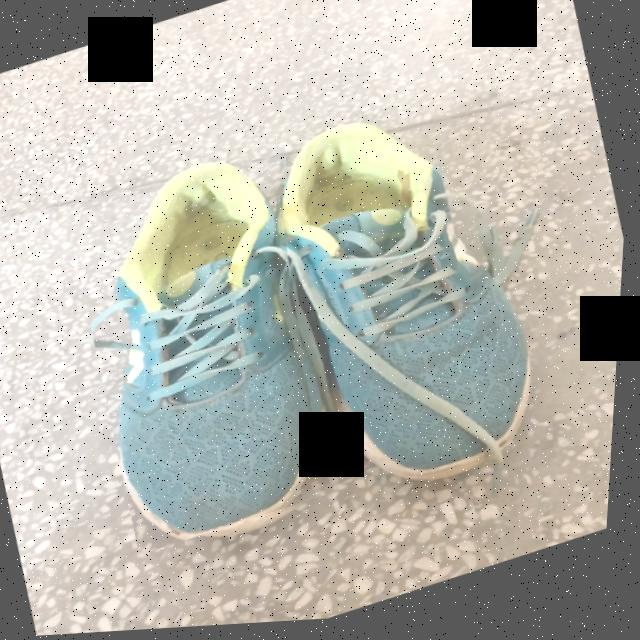shoe: (95, 166, 325, 537)
